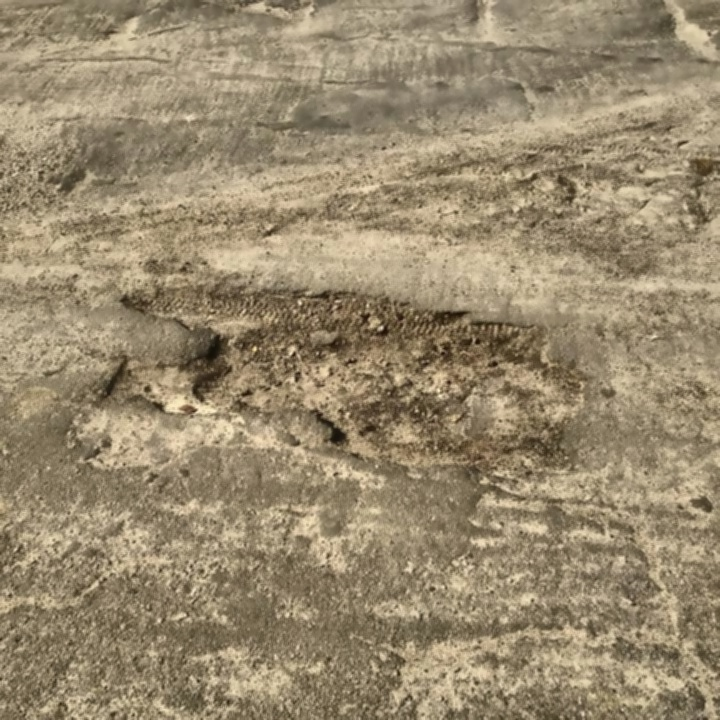pothole: (102, 273, 592, 480)
